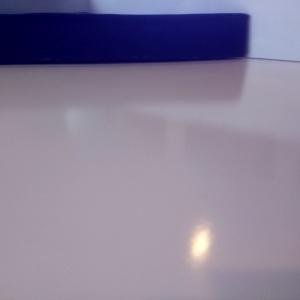zone: (1, 13, 250, 65)
